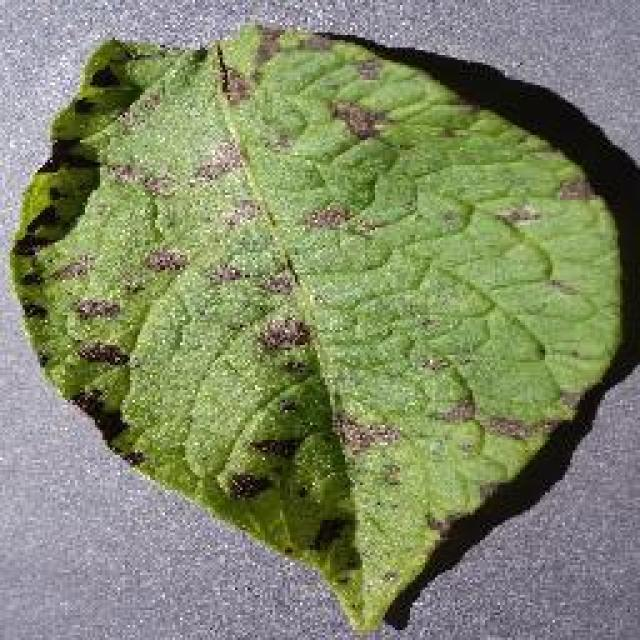Potato___Early_blight: (7, 18, 627, 635)
